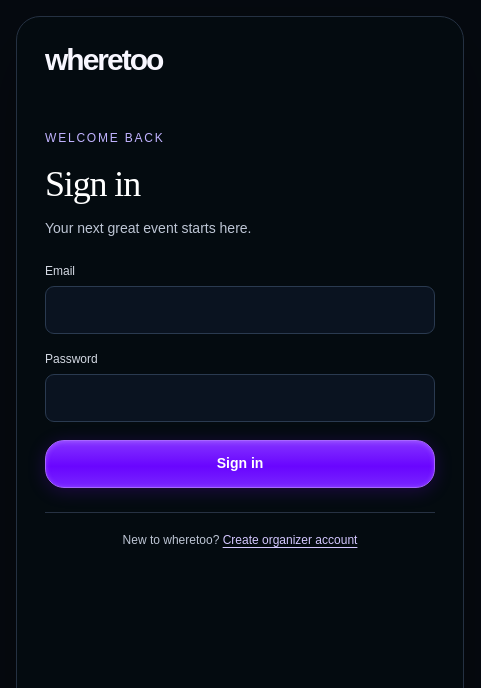
Test: organizer auth pages › retains sign-in values and renders a server error
Type "organizer@example.com" into the field labelled "Email" at [240, 310], box [45, 286, 435, 334]
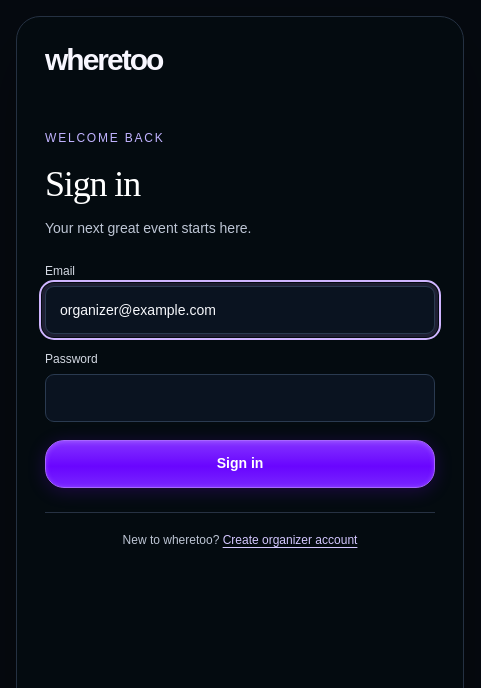
Type "safe-password" into the password field labelled "Password" at [240, 398], box [45, 374, 435, 422]
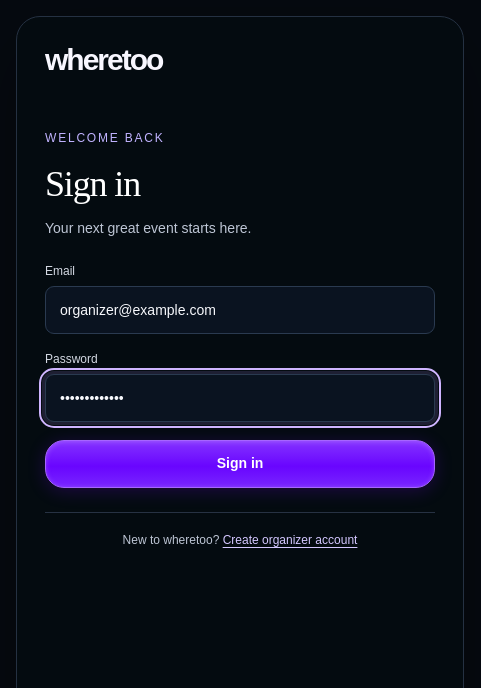
Click the button "Sign in" at [240, 464], box [45, 440, 435, 488]
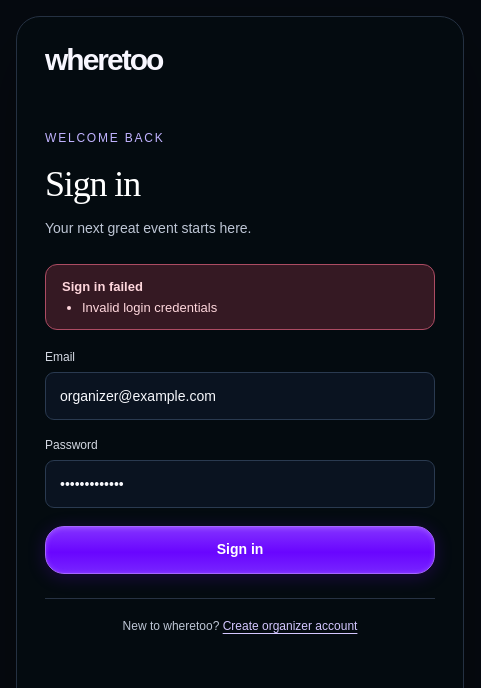
Expected: the list item "Invalid login credentials" is shown, [82, 300, 217, 314]
